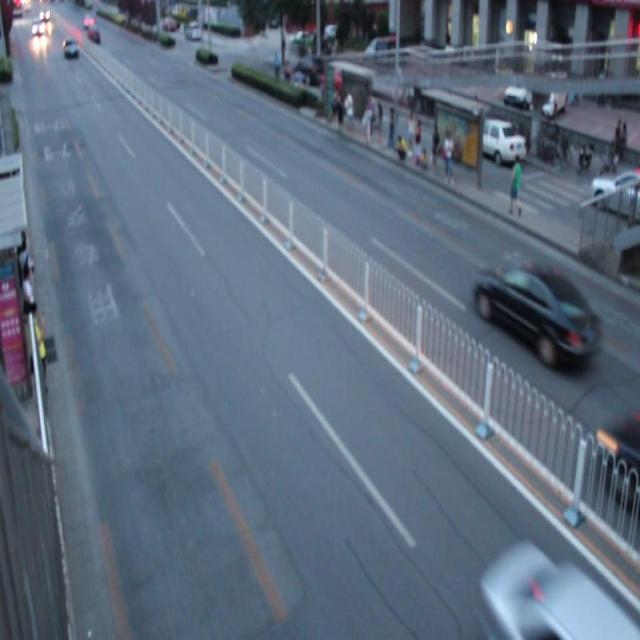car: (473, 259, 600, 367), (488, 545, 620, 640)
